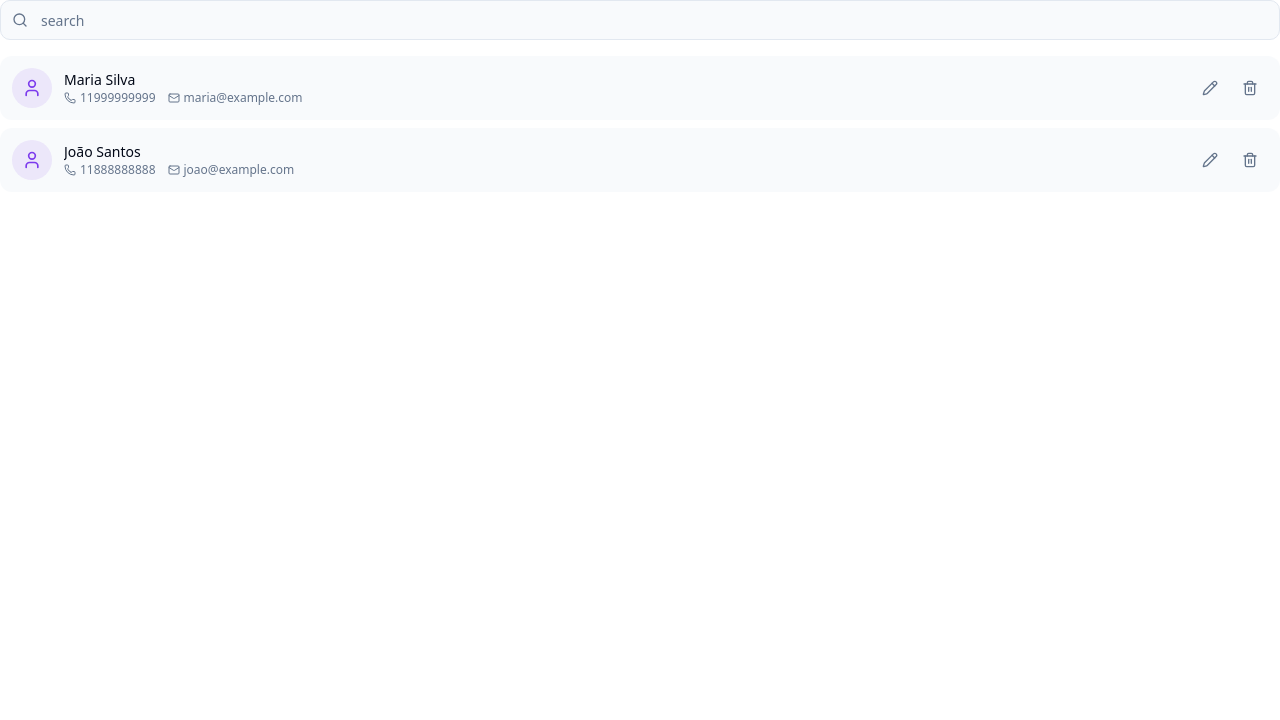
Test: ClientList › with clients › should open delete confirmation when delete button is clicked
The image size is (1280, 720).
Step 1. Click the 1st button named "delete" → x=1250, y=88, box [1232,70,1268,106]
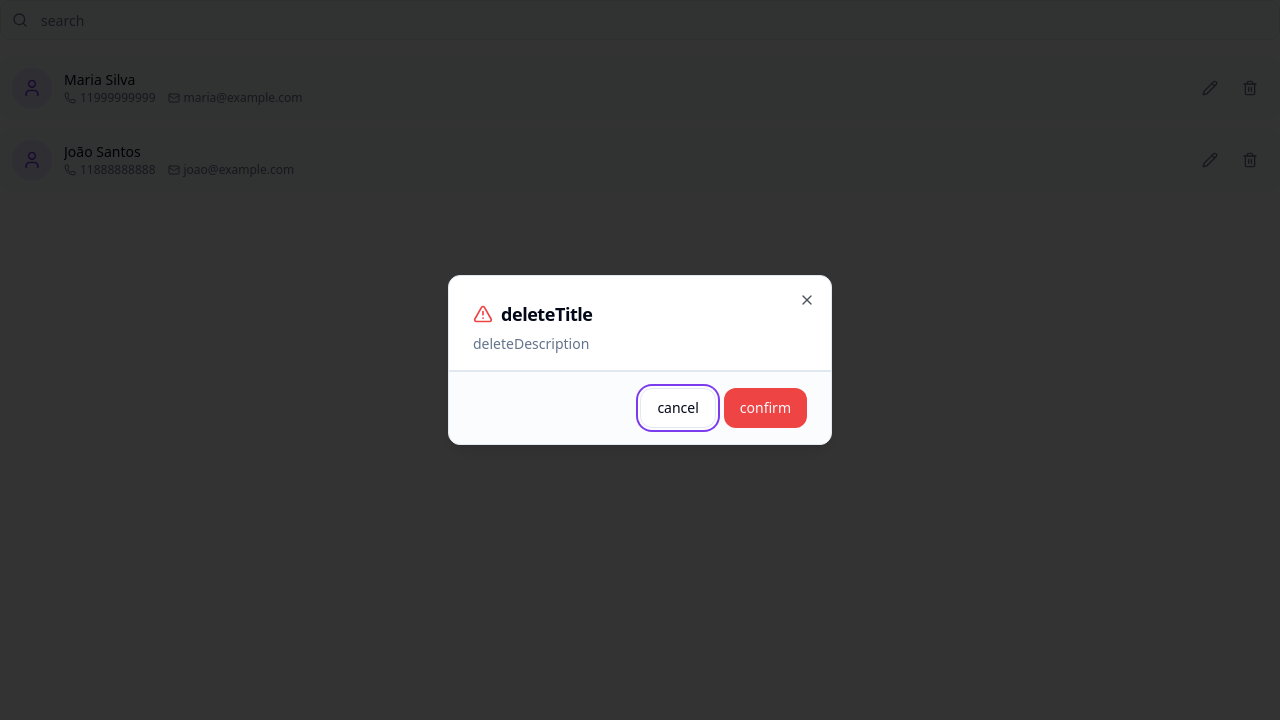
Expected: the heading "deleteTitle" is shown, [473,302,592,326]
